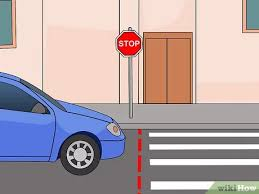stop sign: (115, 30, 145, 57)
